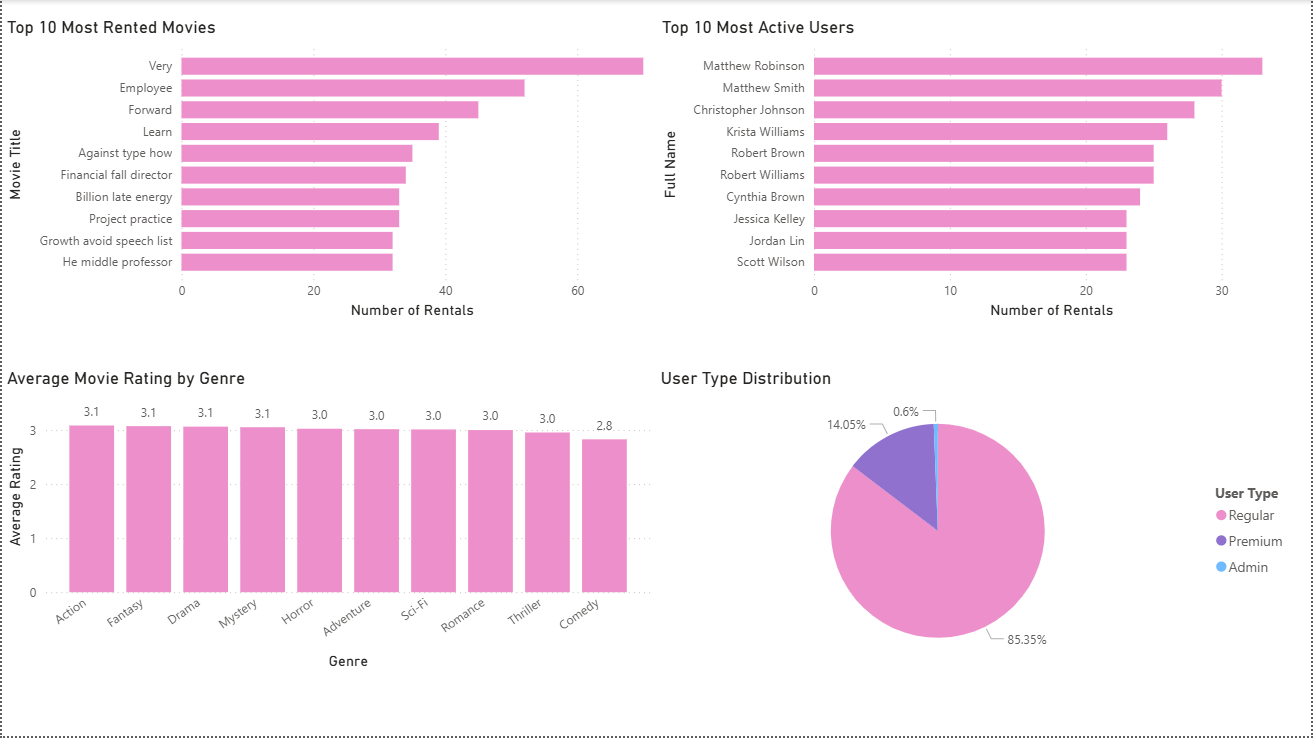

What the dashboard file says about the page in this screenshot:
{"tool":"powerbi","page":{"name":"Page 1","canvas":[1280,720],"ordinal":0},"visuals":[{"type":"clusteredBarChart","title":"Top 10 Most Rented Movies","fields":{"Category":["MovieNestMongo movies.title"],"Y":["Sum(MovieNestMongo movies.rentalCount)"]},"box":[1.2,118.6,639.5,300.8],"z":0},{"type":"clusteredColumnChart","title":"Average Movie Rating by Genre","fields":{"Category":["MovieNestMongo movies.genre"],"Y":["Avg(MovieNestMongo movies.averageRating)"]},"box":[0,419.4,639.5,300.8],"z":1000},{"type":"clusteredBarChart","title":"Top 10 Most Active Users","fields":{"Category":["MovieNestMongo users.fullName"],"Y":["Sum(MovieNestMongo users.totalRentals)"]},"box":[639.5,118.6,631,300.8],"z":1001},{"type":"pieChart","title":"User Type Distribution","fields":{"Category":["MovieNestMongo users.userType"],"Y":["CountNonNull(MovieNestMongo users.userId)"]},"box":[639.5,419.4,632.2,300.8],"z":1002},{"type":"textbox","box":[330.2,24.5,618.8,72.1],"z":1003}]}

Visuals, with their boxes in screenshot pixels (x1, y1, x2, y2), scaled from the page's 1280x720 canvas onto the 1313x738 screenshot:
"Top 10 Most Rented Movies" clusteredBarChart: {"x1": 1, "y1": 122, "x2": 657, "y2": 430}
"Average Movie Rating by Genre" clusteredColumnChart: {"x1": 0, "y1": 430, "x2": 656, "y2": 737}
"Top 10 Most Active Users" clusteredBarChart: {"x1": 656, "y1": 122, "x2": 1303, "y2": 430}
"User Type Distribution" pieChart: {"x1": 656, "y1": 430, "x2": 1304, "y2": 737}
textbox: {"x1": 339, "y1": 25, "x2": 973, "y2": 99}
